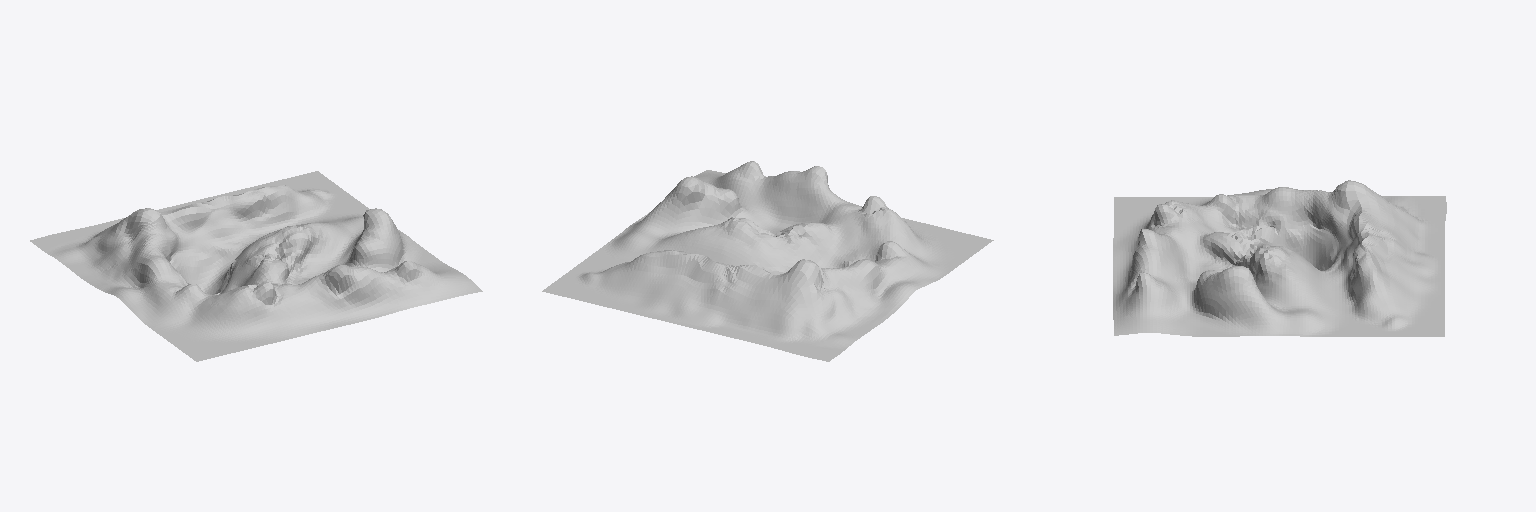
File: Mountain.obj
3 views of the same model, side by side, from view 1: azimuth 30°, elevation 25°; view 2: azimuth 150°, elevation 25°; view 3: azimuth 270°, elevation 25° (orthographic).
Visible parts, largest first — view 1: Grid; view 2: Grid; view 3: Grid.
Part boxes in pixels (left/top/right/bottom): Grid: left=30, top=171, right=482, bottom=361; Grid: left=542, top=161, right=993, bottom=361; Grid: left=1113, top=180, right=1446, bottom=336.
Size of the model in its own units: 20.13 by 5.15 by 20.17.